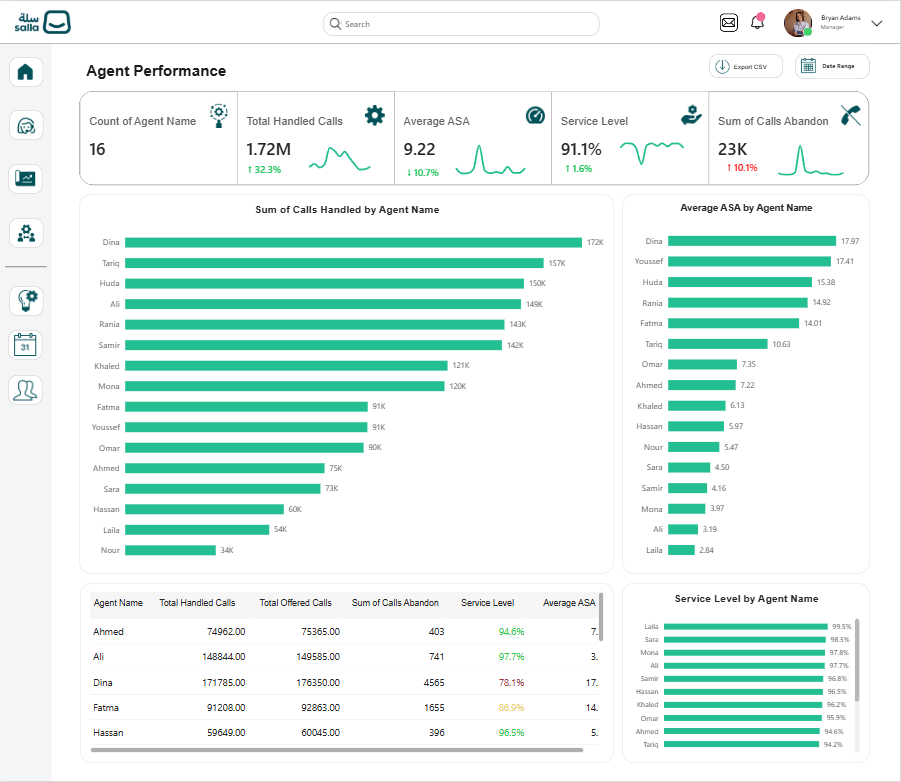

What the dashboard file says about the page in this screenshot:
{"tool":"powerbi","page":{"name":"Agent Performance","canvas":[1500,1300],"ordinal":3},"visuals":[{"type":"shape","box":[0,0,1500,71.4],"z":0},{"type":"cardVisual","fields":{"Data":["Count(Sallah Project.Agent Name)","Sallah Project.Total Handled Calls","Sallah Project.Average ASA","Sallah Project.Service Level %","Sum(Sallah Project.Calls Abandon)"]},"box":[131.7,150,1316.7,156.7],"z":1000},{"type":"barChart","fields":{"Category":["Sallah Project.Agent Name"],"Y":["Sum(Sallah Project.Calls Handled)"]},"box":[131.7,321.7,891.7,633.3],"z":2000},{"type":"clusteredBarChart","fields":{"Category":["Sallah Project.Agent Name"],"Y":["Sallah Project.Average ASA"]},"box":[1037.1,321.4,412.9,632.9],"z":3000},{"type":"pivotTable","fields":{"Rows":["Sallah Project.Agent Name"],"Values":["Sallah Project.Total Handled Calls","Sallah Project.Total Offered Calls","Sum(Sallah Project.Calls Abandon)","Sallah Project.Service Level %","Sallah Project.Average ASA"]},"box":[133.3,970,890,300],"z":4000},{"type":"barChart","fields":{"Category":["Sallah Project.Agent Name"],"Y":["Sallah Project.Service Level %"]},"box":[1037.1,970,412.9,300],"z":5000},{"type":"actionButton","box":[131.7,88.3,290,56.7],"z":6000},{"type":"image","box":[25.7,11.4,92.9,47.1],"z":7000},{"type":"image","box":[1306.7,12.5,47,46.8],"z":8000},{"type":"actionButton","box":[1357,15.5,90.5,20.5],"z":9000},{"type":"actionButton","box":[1353.5,29.5,68.5,25.5],"z":10000},{"type":"image","box":[1448,25,26,22],"z":11000},{"type":"shape","box":[1337.7,43.1,16.2,15.9],"z":12000},{"type":"image","box":[1248.8,18.8,27.5,35],"z":13000},{"type":"image","box":[1196.2,20,36.4,32.1],"z":14000},{"type":"shape","box":[1260.8,18.8,16,16],"z":15000},{"type":"actionButton","box":[538.9,18.9,461.2,40],"z":16000},{"type":"shape","box":[0,71.4,85.7,1228.6],"z":17000},{"type":"shape","box":[0,65.3,1500,12],"z":18000},{"type":"actionButton","box":[14.2,182.3,57.5,50],"z":19000},{"type":"image","box":[22.5,190.8,41.7,33.3],"z":20000},{"type":"actionButton","box":[13.6,271.8,57.5,50],"z":21000},{"type":"image","box":[21.2,280,41.7,33.3],"z":22000},{"type":"actionButton","box":[14.4,362.2,57.5,50],"z":23000},{"type":"image","box":[22.5,370,41.7,33.3],"z":24000},{"type":"actionButton","box":[15,475,57.5,50],"z":25000},{"type":"actionButton","box":[13.8,548.8,57.5,50],"z":26000},{"type":"image","title":"month filter","box":[20,554,44.7,40],"z":27000},{"type":"actionButton","box":[14,622.7,57.5,50],"z":28000},{"type":"image","title":"filter agent2","box":[20.7,628,44.7,40],"z":29000},{"type":"image","title":"project filtr","box":[22.7,480,44.7,40],"z":30000},{"type":"shape","box":[8.3,437.2,68.9,12.2],"z":31000},{"type":"actionButton","box":[14.5,92.7,57.1,50],"z":32000},{"type":"image","box":[22.3,100.9,41.7,33.3],"z":33000},{"type":"actionButton","title":"date hover","box":[1325.5,88,124.6,41.5],"z":34000},{"type":"image","title":"date icon","box":[1333.4,95.5,28.2,26.5],"z":35000},{"type":"actionButton","title":"date word","box":[1358.4,95,83,26],"z":36000},{"type":"actionButton","box":[1181.8,89.1,123.8,40],"z":37000},{"type":"image","box":[1191.2,95,25,28],"z":38000},{"type":"actionButton","box":[1210,96.3,81.4,25.7],"z":39000},{"type":"lineChart","title":"Service Level Trend","fields":{"Category":["Sallah Project.Week Number"],"Y":["Sallah Project.Total Handled Calls"]},"box":[481.8,210.9,177.3,95.5],"z":49000},{"type":"lineChart","title":"Abandonment Rate Trend","fields":{"Category":["Sallah Project.Week Number"],"Y":["Sallah Project.Average ASA"]},"box":[724.4,206.7,194.4,100],"z":50000},{"type":"lineChart","title":"Service Level Trend","fields":{"Category":["Sallah Project.Week Number"],"Y":["Sallah Project.Service Level %"]},"box":[1000,213.3,181.7,93.3],"z":51000},{"type":"lineChart","title":"Service Level Trend","fields":{"Category":["Sallah Project.Week Number"],"Y":["Sallah Project.Total Abandoned Calls"]},"box":[1262.5,213.8,185,93.8],"z":52000},{"type":"image","box":[606.4,170,36.4,40.7],"z":53000},{"type":"image","box":[873.3,170,38,40.7],"z":54000},{"type":"image","box":[1132.5,170,38,40.7],"z":55000},{"type":"image","box":[1400,170,36.4,40.7],"z":56000},{"type":"image","box":[344,170,43,43],"z":57000},{"type":"card","fields":{"Values":["Sallah Project.Service Level Trend"]},"box":[922.4,258.3,85.7,47.9],"z":57001},{"type":"card","fields":{"Values":["Sallah Project.ASA Trend"]},"box":[660.7,262.7,88.8,43.8],"z":57002},{"type":"card","fields":{"Values":["Sallah Project.Handled Calls Trend"]},"box":[393.8,260,93.8,46.2],"z":57003},{"type":"card","fields":{"Values":["Sallah Project.Call Abandon Trend"]},"box":[1181.1,256.7,110,48.9],"z":57004}]}

Visuals, with their boxes on the page's 1500x1300 design canvas (x1, y1, x2, y2). These are canvas units, not pixel positions in the 901x782 screenshot, which may show the page scaled, cropped or inside an application window:
shape: <bbox>0, 0, 1500, 71</bbox>
cardVisual - Count(Sallah Project.Agent Name) x Sallah Project.Total Handled Calls: <bbox>132, 150, 1448, 307</bbox>
barChart - Sallah Project.Agent Name x Sum(Sallah Project.Calls Handled): <bbox>132, 322, 1023, 955</bbox>
clusteredBarChart - Sallah Project.Agent Name x Sallah Project.Average ASA: <bbox>1037, 321, 1450, 954</bbox>
pivotTable - Sallah Project.Agent Name x Sallah Project.Total Handled Calls: <bbox>133, 970, 1023, 1270</bbox>
barChart - Sallah Project.Agent Name x Sallah Project.Service Level %: <bbox>1037, 970, 1450, 1270</bbox>
actionButton: <bbox>132, 88, 422, 145</bbox>
image: <bbox>26, 11, 119, 58</bbox>
image: <bbox>1307, 12, 1354, 59</bbox>
actionButton: <bbox>1357, 16, 1448, 36</bbox>
actionButton: <bbox>1354, 30, 1422, 55</bbox>
image: <bbox>1448, 25, 1474, 47</bbox>
shape: <bbox>1338, 43, 1354, 59</bbox>
image: <bbox>1249, 19, 1276, 54</bbox>
image: <bbox>1196, 20, 1233, 52</bbox>
shape: <bbox>1261, 19, 1277, 35</bbox>
actionButton: <bbox>539, 19, 1000, 59</bbox>
shape: <bbox>0, 71, 86, 1300</bbox>
shape: <bbox>0, 65, 1500, 77</bbox>
actionButton: <bbox>14, 182, 72, 232</bbox>
image: <bbox>22, 191, 64, 224</bbox>
actionButton: <bbox>14, 272, 71, 322</bbox>
image: <bbox>21, 280, 63, 313</bbox>
actionButton: <bbox>14, 362, 72, 412</bbox>
image: <bbox>22, 370, 64, 403</bbox>
actionButton: <bbox>15, 475, 72, 525</bbox>
actionButton: <bbox>14, 549, 71, 599</bbox>
"month filter" image: <bbox>20, 554, 65, 594</bbox>
actionButton: <bbox>14, 623, 72, 673</bbox>
"filter agent2" image: <bbox>21, 628, 65, 668</bbox>
"project filtr" image: <bbox>23, 480, 67, 520</bbox>
shape: <bbox>8, 437, 77, 449</bbox>
actionButton: <bbox>14, 93, 72, 143</bbox>
image: <bbox>22, 101, 64, 134</bbox>
"date hover" actionButton: <bbox>1326, 88, 1450, 130</bbox>
"date icon" image: <bbox>1333, 96, 1362, 122</bbox>
"date word" actionButton: <bbox>1358, 95, 1441, 121</bbox>
actionButton: <bbox>1182, 89, 1306, 129</bbox>
image: <bbox>1191, 95, 1216, 123</bbox>
actionButton: <bbox>1210, 96, 1291, 122</bbox>
"Service Level Trend" lineChart: <bbox>482, 211, 659, 306</bbox>
"Abandonment Rate Trend" lineChart: <bbox>724, 207, 919, 307</bbox>
"Service Level Trend" lineChart: <bbox>1000, 213, 1182, 307</bbox>
"Service Level Trend" lineChart: <bbox>1262, 214, 1448, 308</bbox>
image: <bbox>606, 170, 643, 211</bbox>
image: <bbox>873, 170, 911, 211</bbox>
image: <bbox>1132, 170, 1170, 211</bbox>
image: <bbox>1400, 170, 1436, 211</bbox>
image: <bbox>344, 170, 387, 213</bbox>
card - Sallah Project.Service Level Trend: <bbox>922, 258, 1008, 306</bbox>
card - Sallah Project.ASA Trend: <bbox>661, 263, 750, 306</bbox>
card - Sallah Project.Handled Calls Trend: <bbox>394, 260, 488, 306</bbox>
card - Sallah Project.Call Abandon Trend: <bbox>1181, 257, 1291, 306</bbox>
